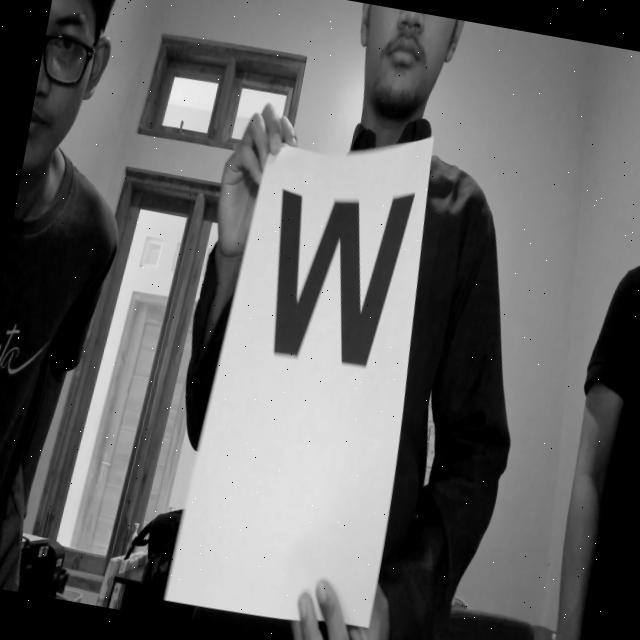w: (245, 174, 420, 385)
